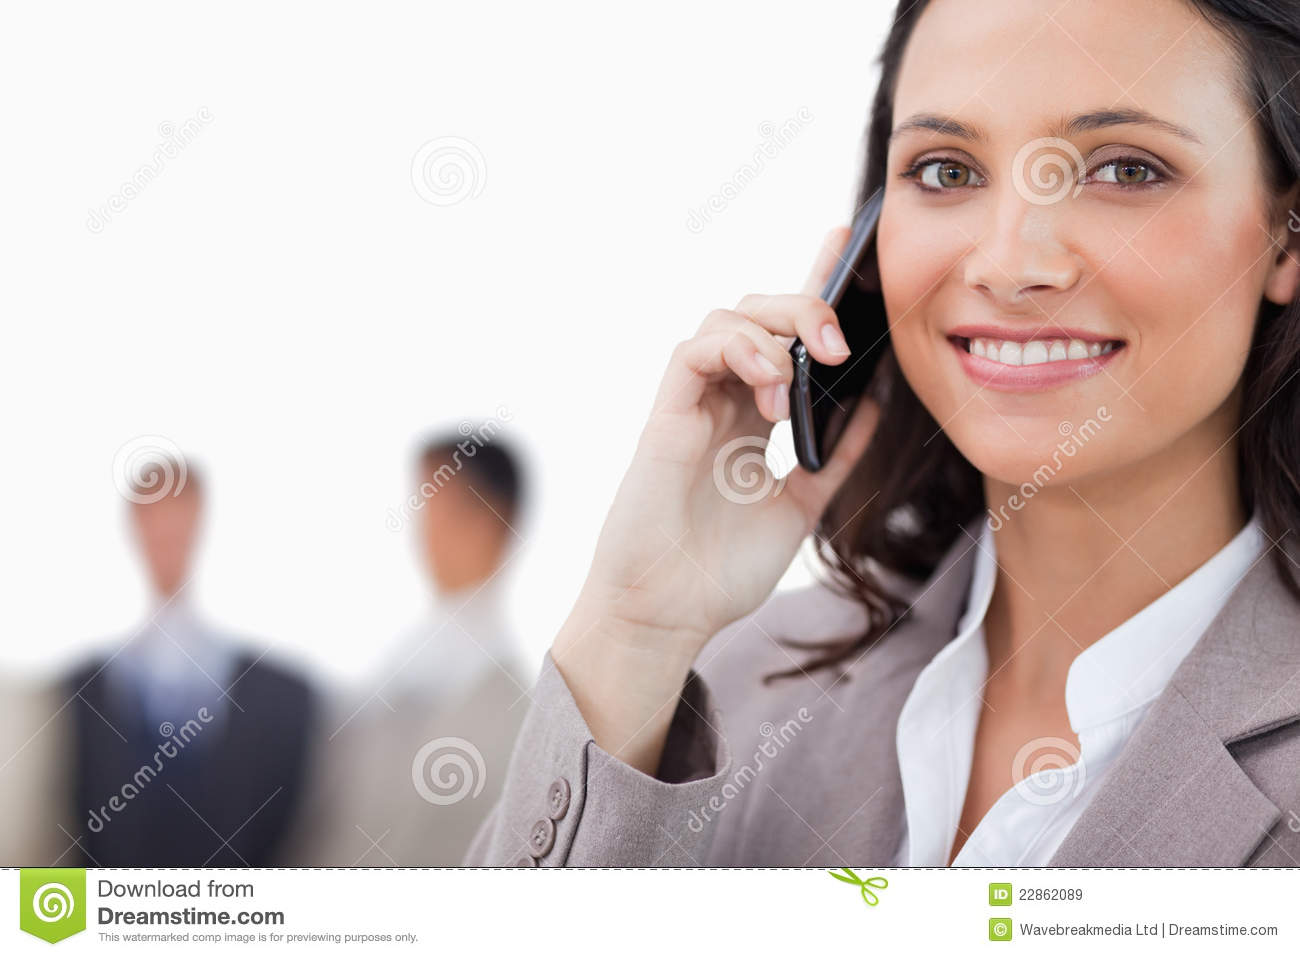phone: (783, 185, 886, 472)
talk: (595, 88, 1222, 668)
